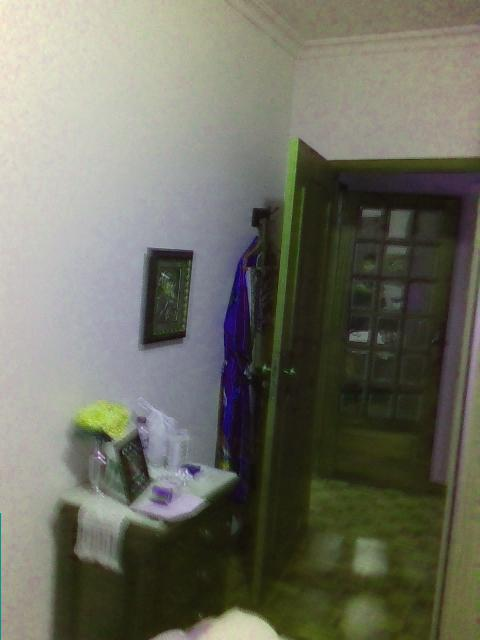open_door: (273, 158, 479, 639)
